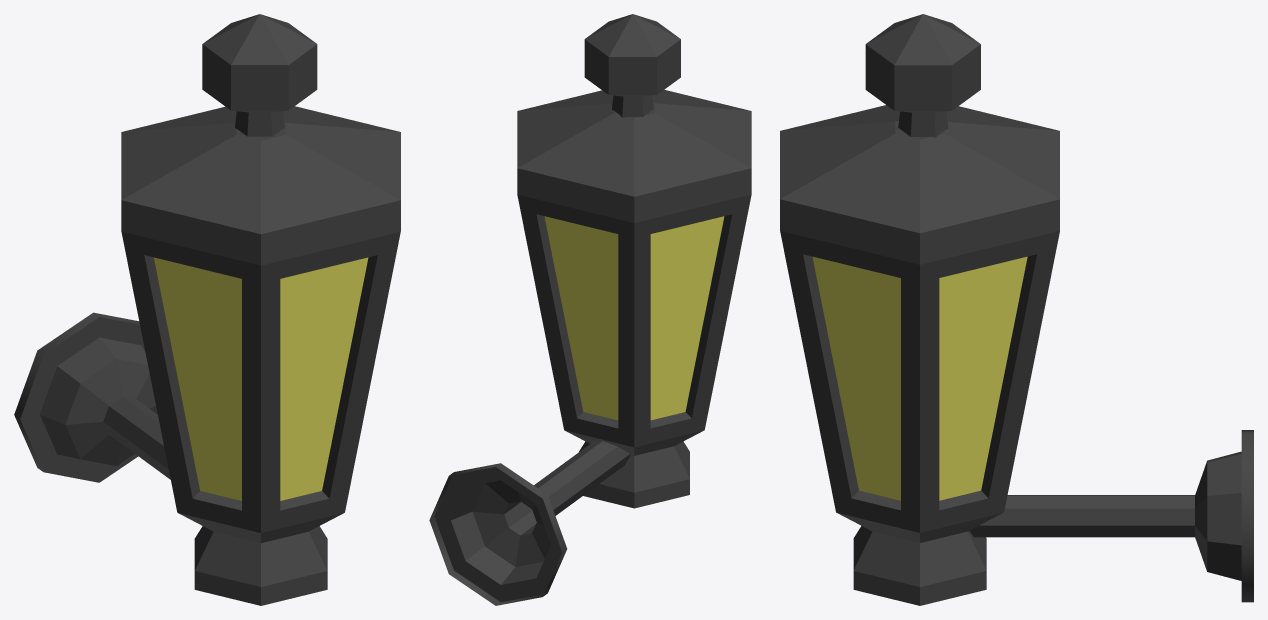
The model's file is SM_lamp_house_02.fbx.
The picture shows the model from 3 angles, left to right: view 1: azimuth 30°, elevation 25°; view 2: azimuth 150°, elevation 25°; view 3: azimuth 270°, elevation 25°; orthographic projection. The views are drawn at different scales.
Visible parts, largest first — view 1: Cylinder008; view 2: Cylinder008; view 3: Cylinder008.
Part boxes in pixels (box(x1,y1,x2,y2)): Cylinder008: box(14, 14, 400, 605); Cylinder008: box(429, 14, 751, 605); Cylinder008: box(780, 14, 1253, 605).
Size of the model in its own units: 10.26 by 20.52 by 15.04.
